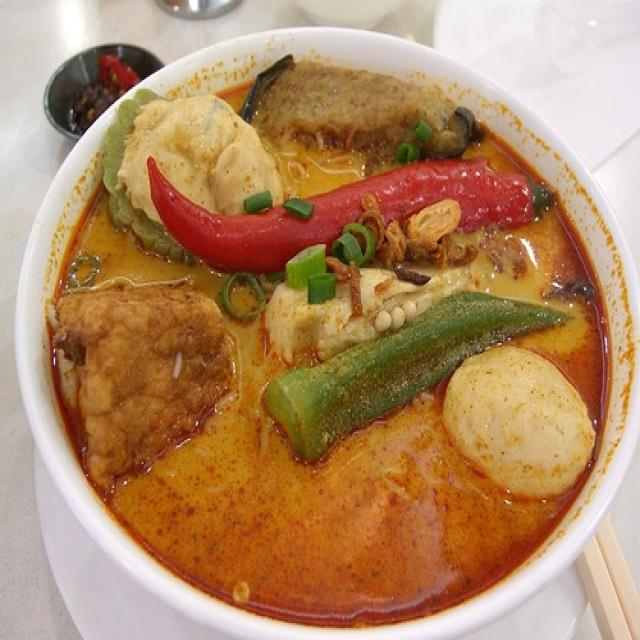面条主食: (22, 31, 631, 631)
